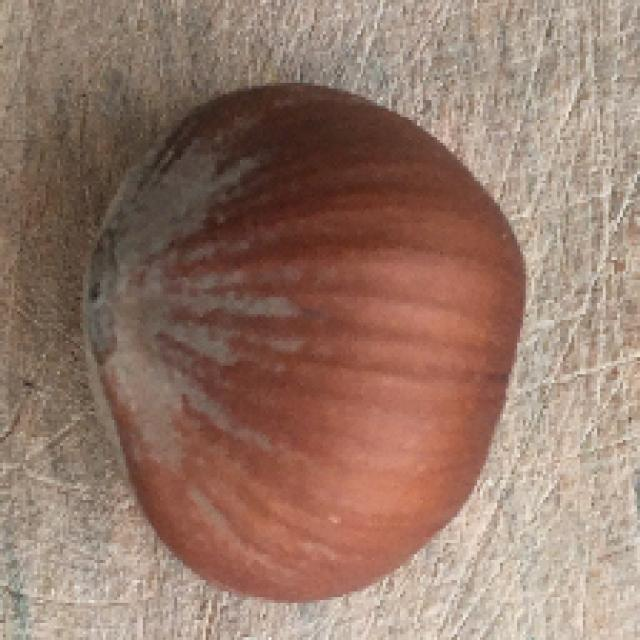qualityHazelnut: (72, 80, 524, 601)
